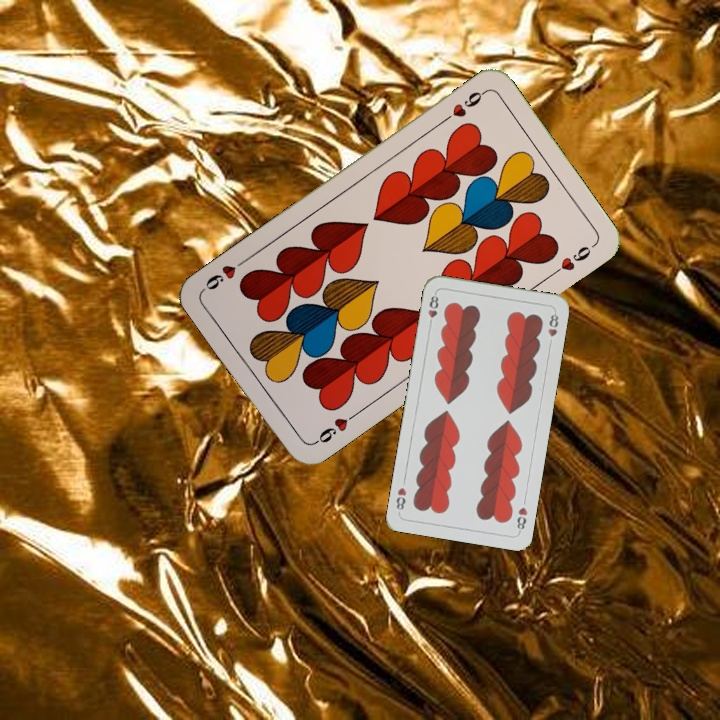H8: (424, 289, 441, 329), (513, 503, 530, 535)
H9: (437, 86, 489, 126), (309, 408, 361, 448)
